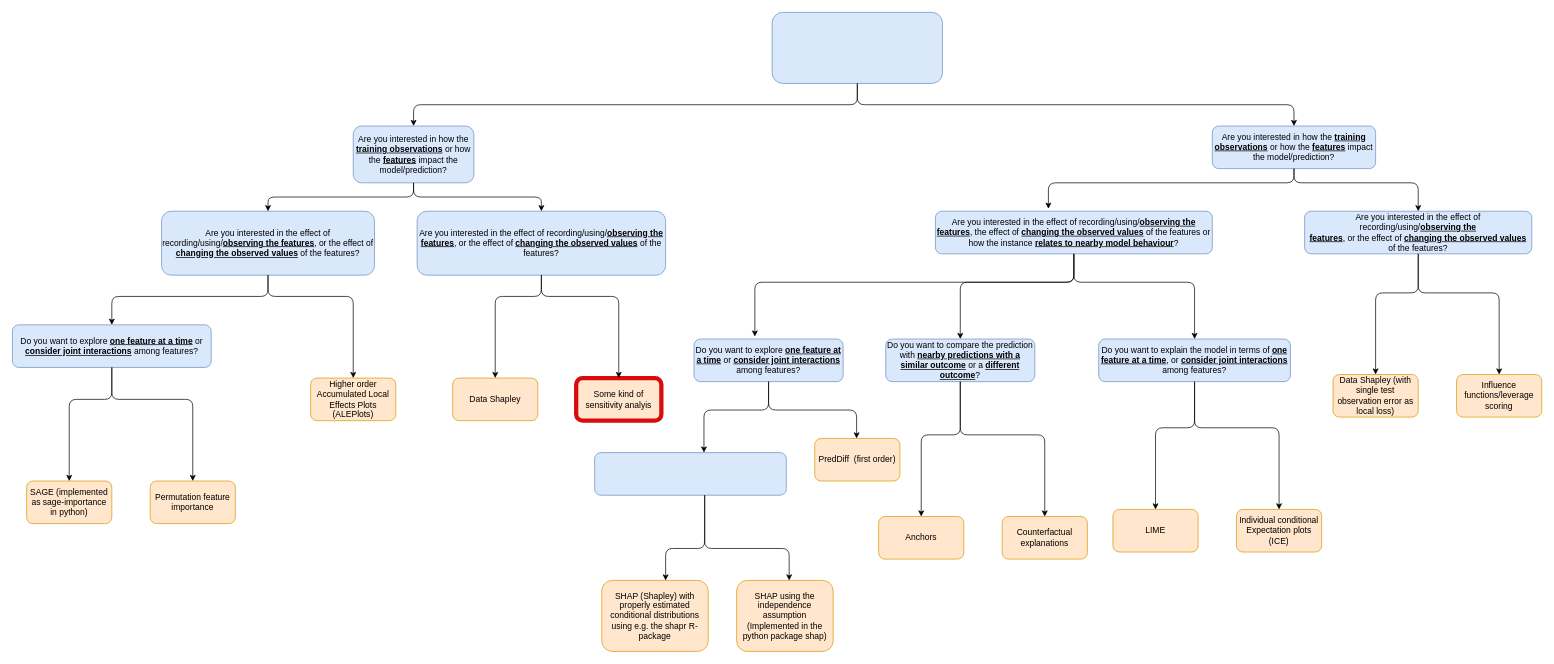
Image size: 1554x664. Some labels were removed from this diagram. The box of each missing label's shape, as (x1, y1, x2, y2) in pixels:
Do you want to explain the whole model or specific predictions?: (771, 12, 943, 83)
Do you want to obey or ignore the data distribution in the explanation? **: (594, 452, 786, 495)
